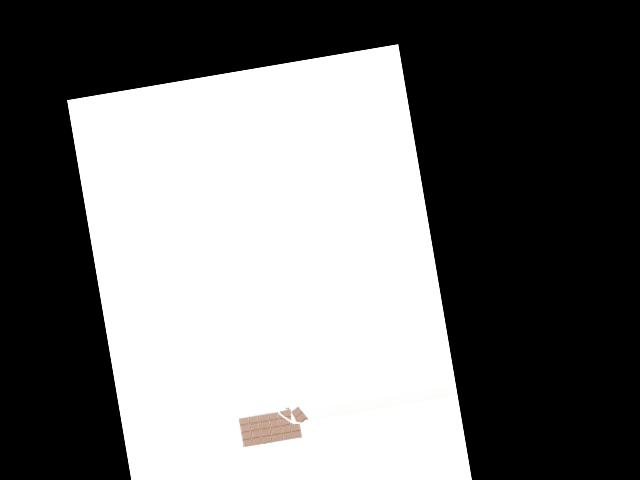chocolate: (236, 397, 312, 452)
